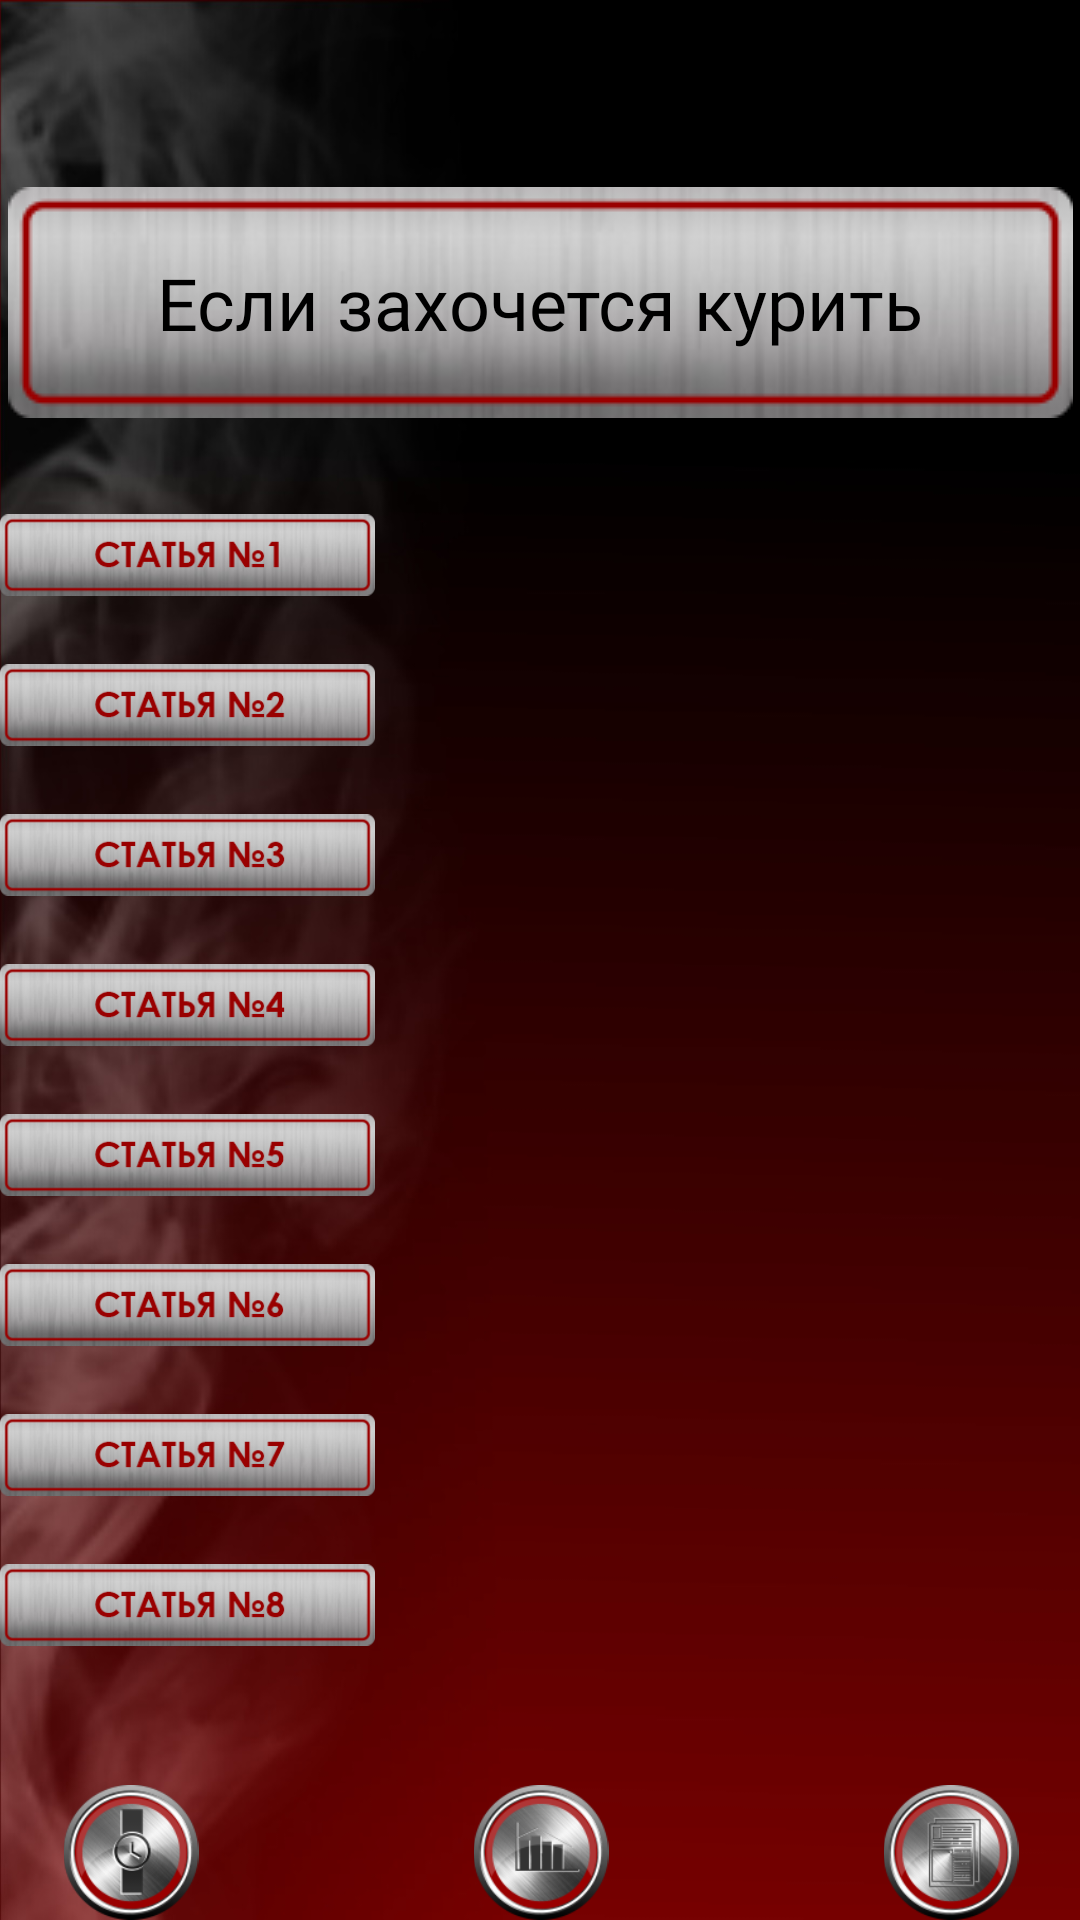

Icon click points for this 1080w x 1920h phone screenshot, format (x,y):
grafik: (541,1852)
